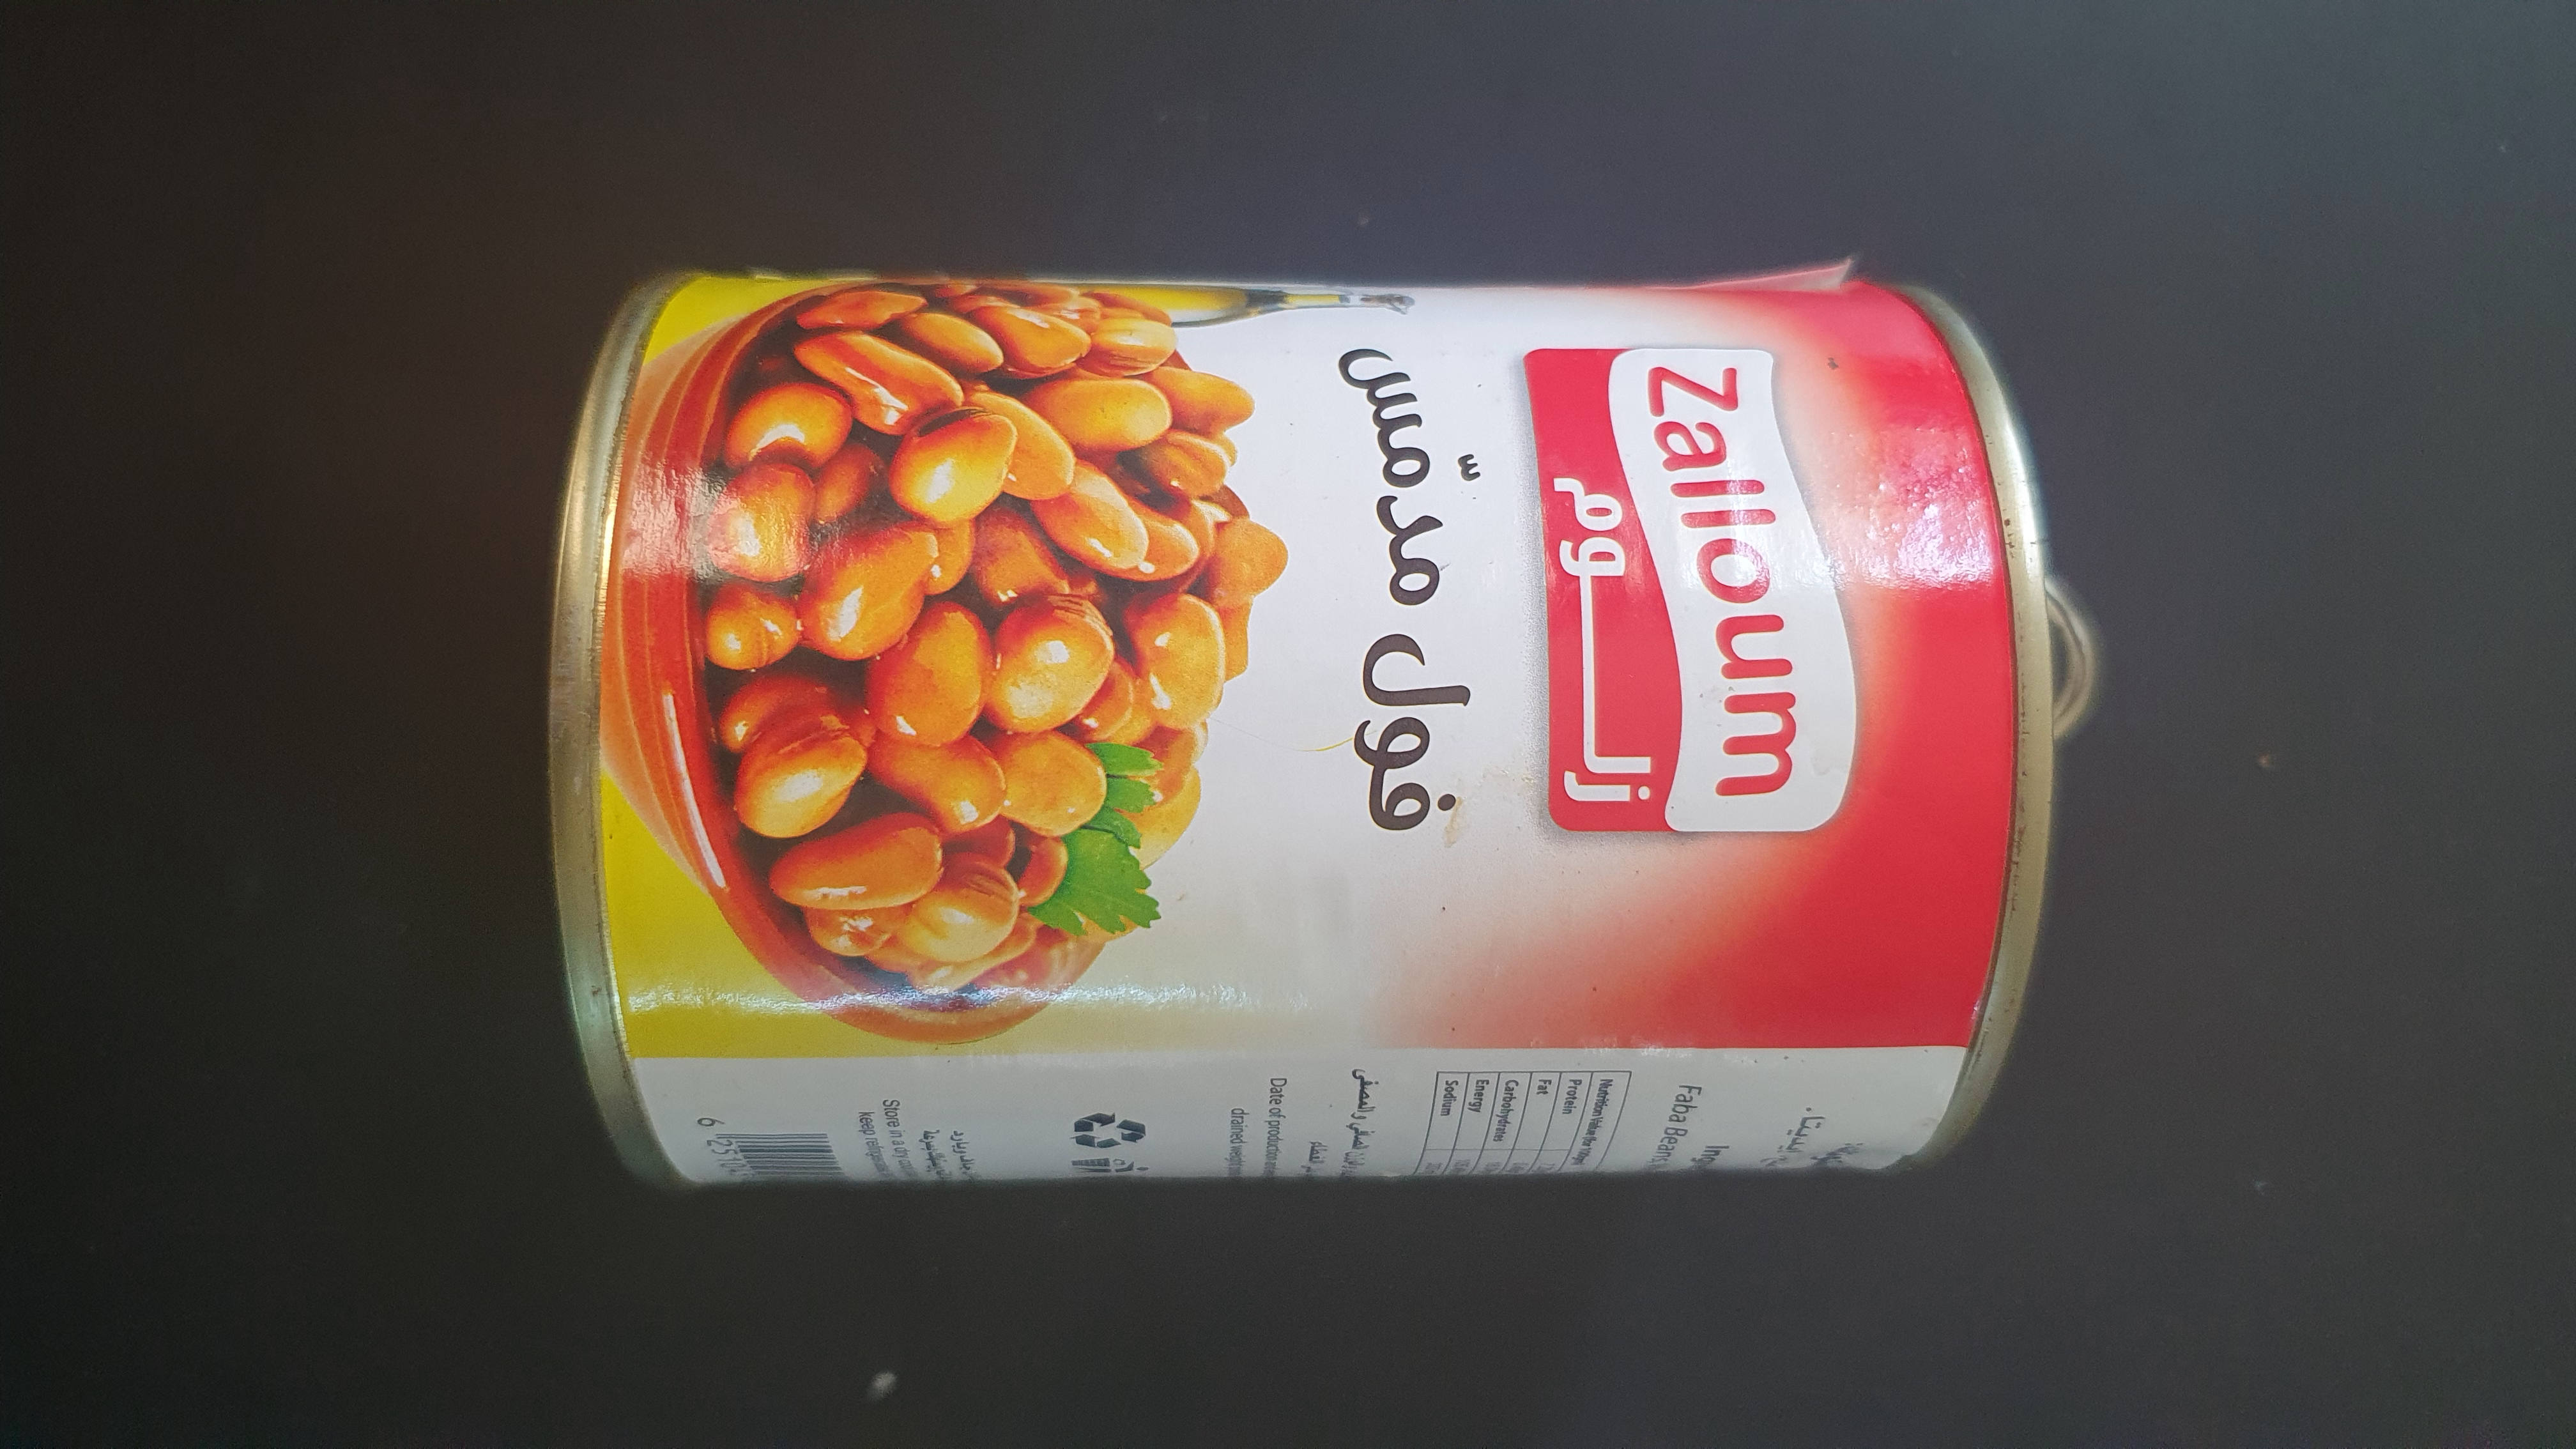metal: (492, 226, 2123, 1249)
